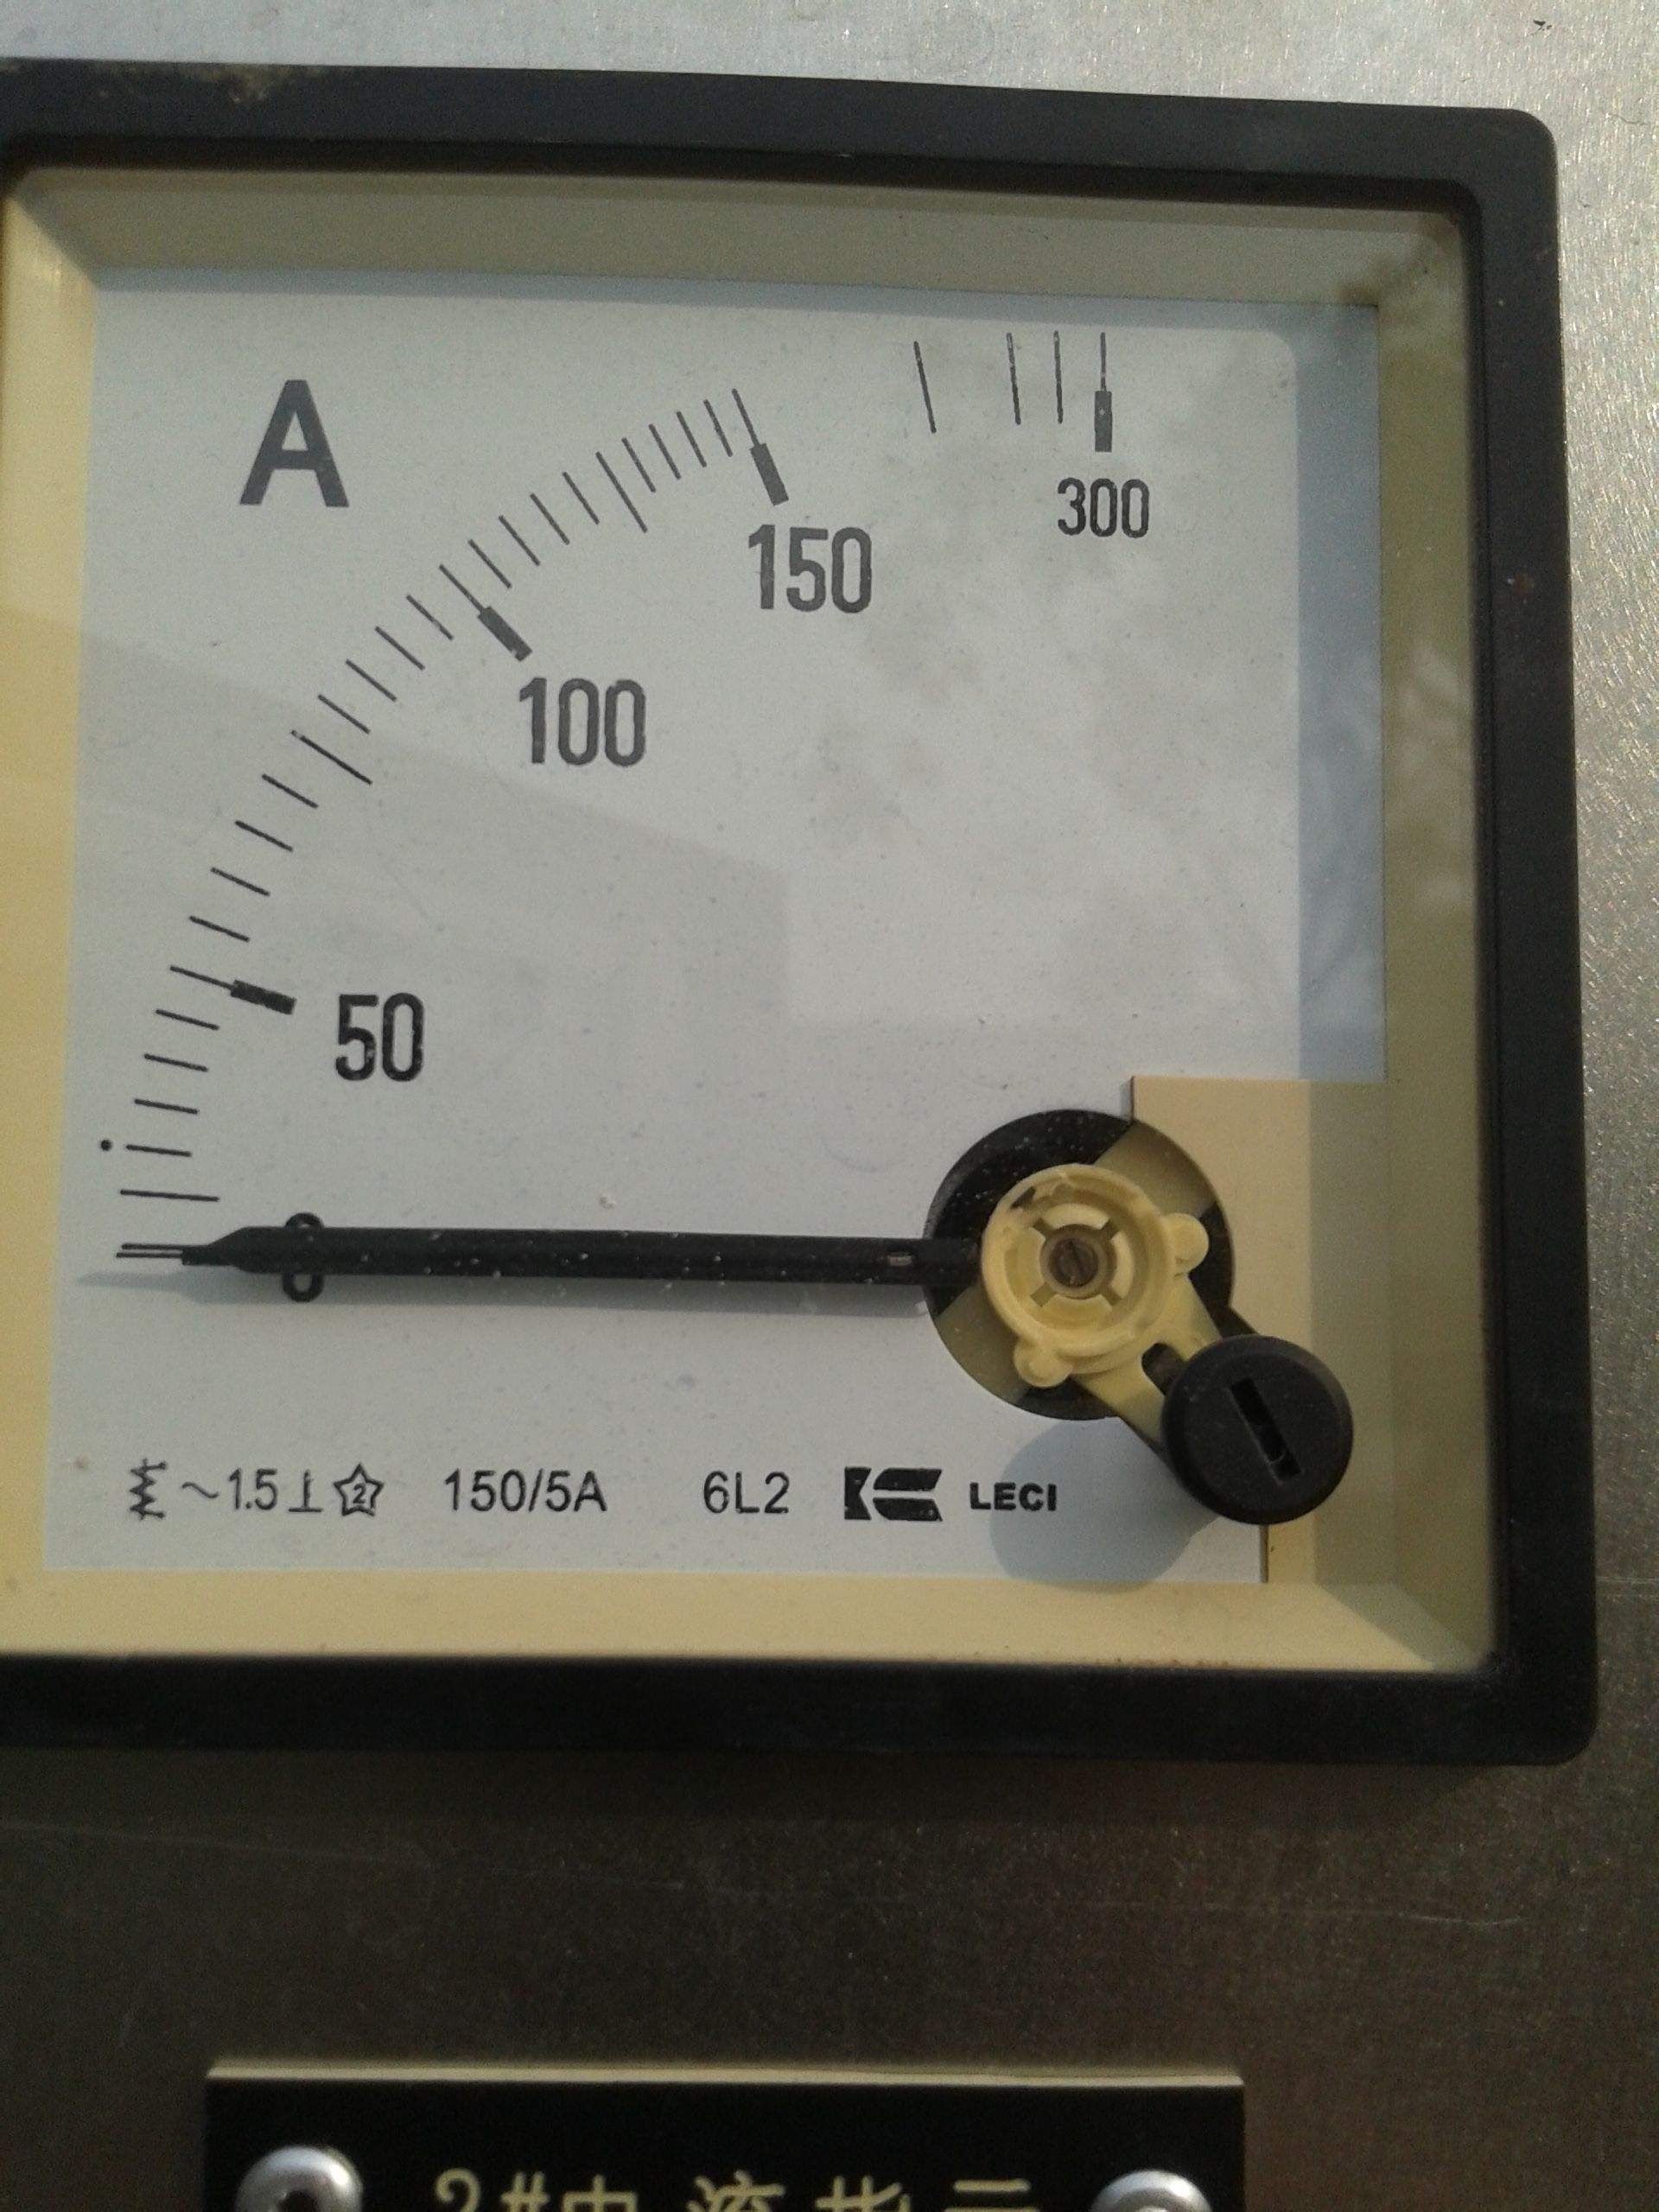pointer: (5, 158, 1488, 1665)
